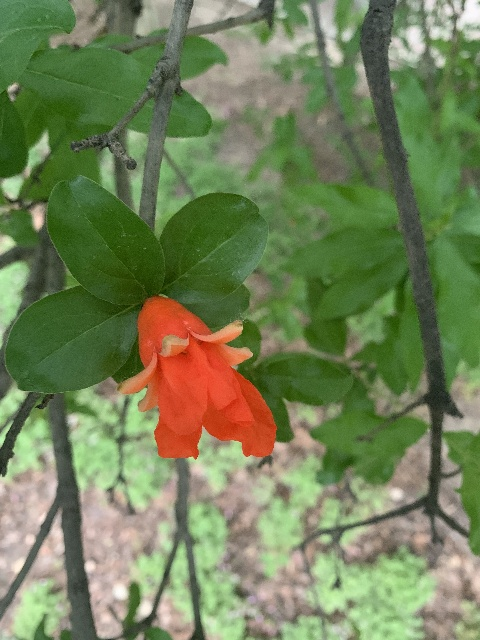flower: (118, 295, 276, 460)
